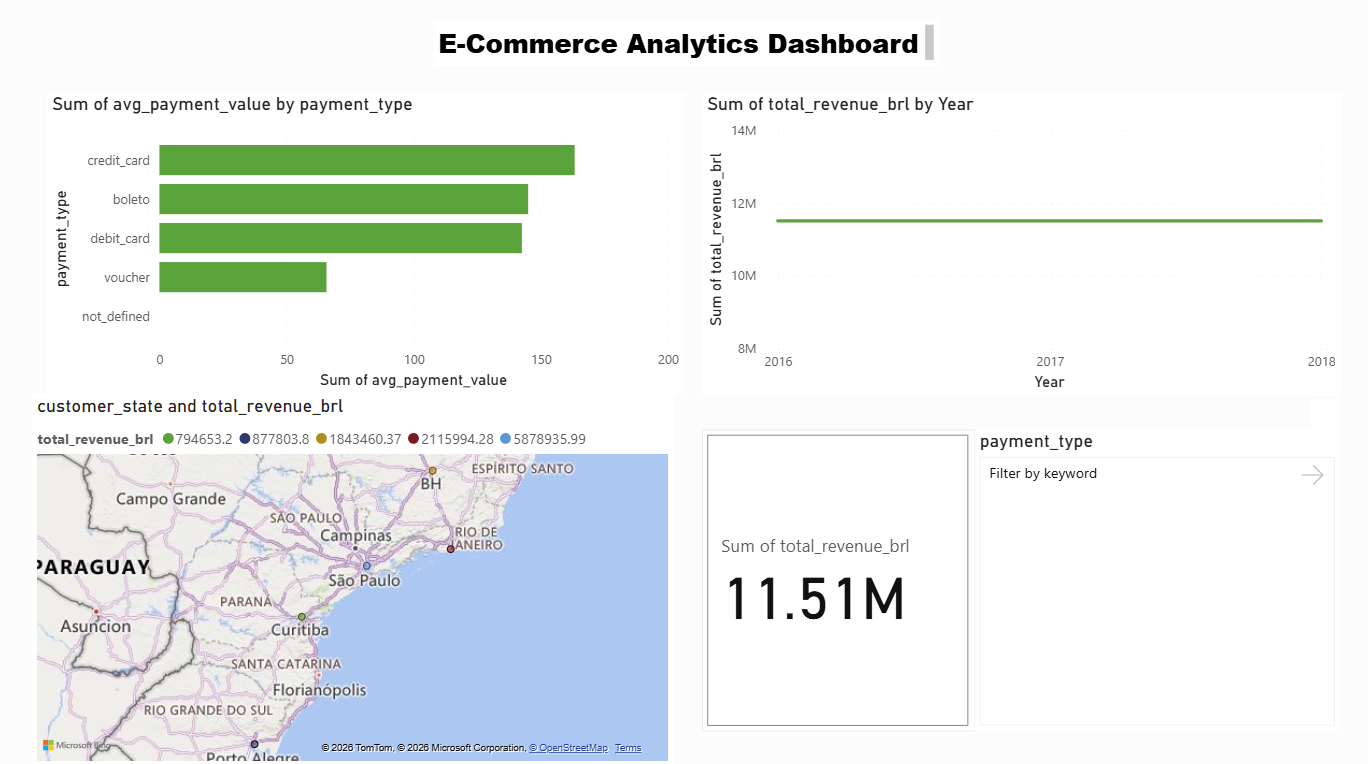

What the dashboard file says about the page in this screenshot:
{"tool":"powerbi","page":{"name":"Page 1","canvas":[1280,720],"ordinal":0},"visuals":[{"type":"barChart","fields":{"Category":["payment_methods.payment_type"],"Y":["Sum(payment_methods.avg_payment_value)"]},"box":[46.7,94.7,592.8,279.9],"z":0},{"type":"map","fields":{"Category":["top_states.customer_state"],"Series":["top_states.total_revenue_brl"]},"box":[32.9,374.6,596.9,345.8],"z":1},{"type":"lineChart","fields":{"Category":["monthly_revenue.month.Variation.Date Hierarchy.Year","monthly_revenue.month.Variation.Date Hierarchy.Quarter","monthly_revenue.month.Variation.Date Hierarchy.Month","monthly_revenue.month.Variation.Date Hierarchy.Day"],"Y":["Sum(top_states.total_revenue_brl)"]},"box":[655.8,94.2,594.2,281.4],"z":2},{"type":"cardVisual","fields":{"Data":["Sum(top_states.total_revenue_brl)"]},"box":[655.9,407.5,253.9,281.3],"z":3},{"type":"textSlicer","fields":{"Values":["payment_methods.payment_type"]},"box":[909.8,407.5,340.3,279.9],"z":4},{"type":"textbox","box":[405.8,25.6,470.9,43],"z":5}]}

Visuals, with their boxes in screenshot pixels (x1, y1, x2, y2), scaled from the page's 1280x720 canvas onto the 1368x764 screenshot:
barChart - payment_methods.payment_type x Sum(payment_methods.avg_payment_value): <bbox>50, 100, 683, 397</bbox>
map - top_states.customer_state x top_states.total_revenue_brl: <bbox>35, 397, 673, 763</bbox>
lineChart - monthly_revenue.month.Variation.Date Hierarchy.Year x monthly_revenue.month.Variation.Date Hierarchy.Quarter: <bbox>701, 100, 1336, 399</bbox>
cardVisual - Sum(top_states.total_revenue_brl): <bbox>701, 432, 972, 731</bbox>
textSlicer - payment_methods.payment_type: <bbox>972, 432, 1336, 729</bbox>
textbox: <bbox>434, 27, 937, 73</bbox>
